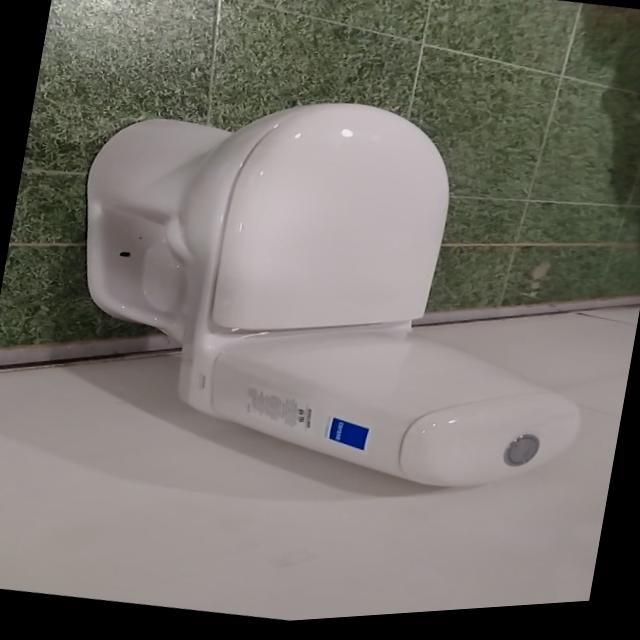toilet: (39, 49, 632, 538)
